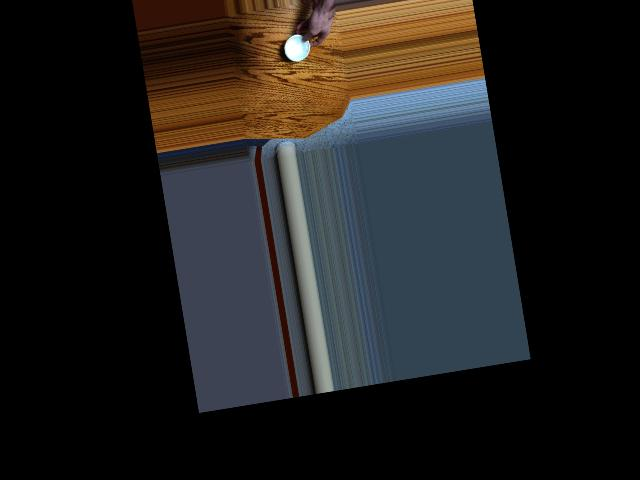cotage: (280, 31, 312, 63)
